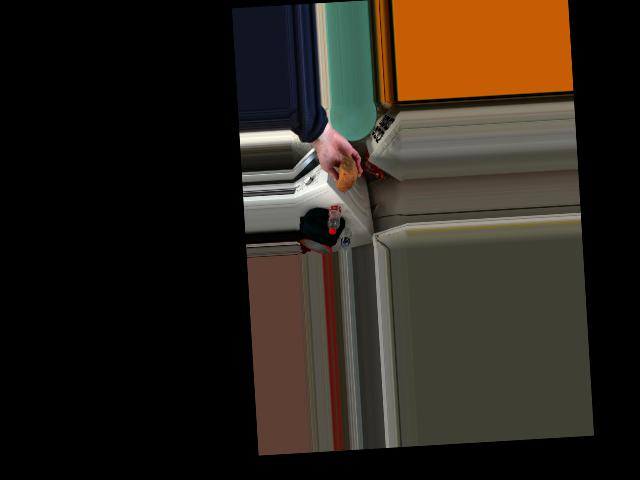sweet_potato: (337, 151, 357, 193)
